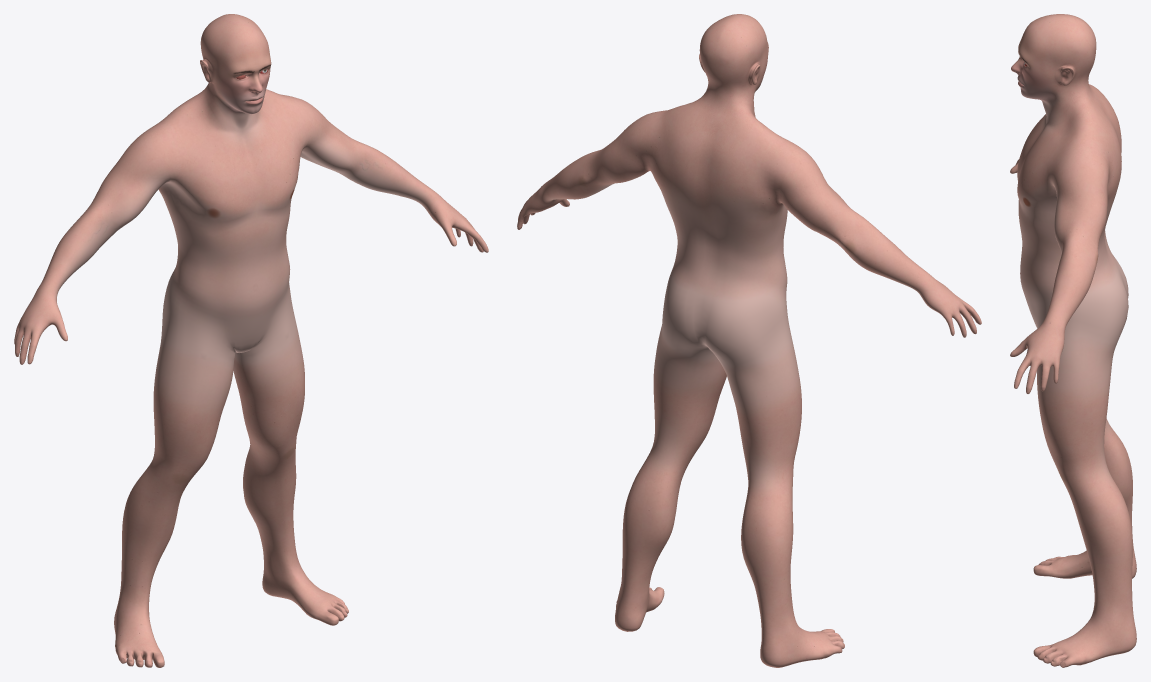
3 views of the same model, side by side, from view 1: azimuth 30°, elevation 25°; view 2: azimuth 150°, elevation 25°; view 3: azimuth 270°, elevation 25° (orthographic). The views are drawn at different scales.
Visible parts, largest first — view 1: Oskar_LoRes; view 2: Oskar_LoRes; view 3: Oskar_LoRes.
Boxes of the visible parts, <box> form: Oskar_LoRes: <box>14,14,488,667</box>; Oskar_LoRes: <box>517,14,981,667</box>; Oskar_LoRes: <box>1010,14,1136,667</box>.
Bounding box in the file's own units: 114 × 146 × 27.96.
